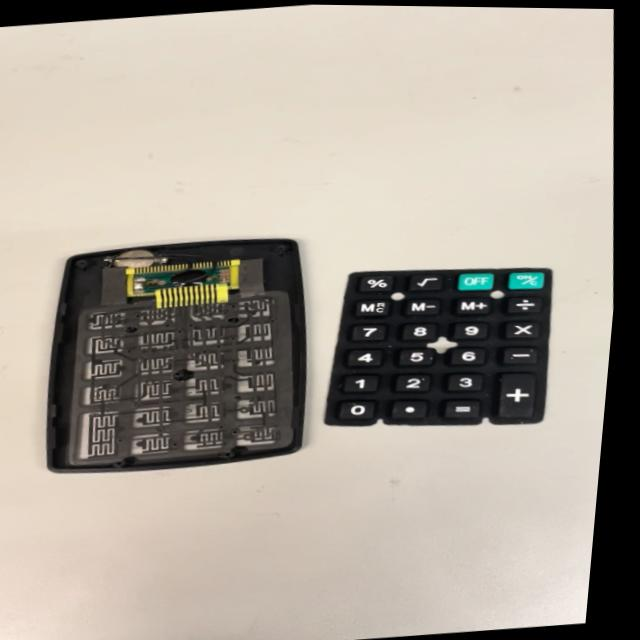front_panel: (19, 234, 330, 481)
number_pad: (312, 235, 570, 444)
